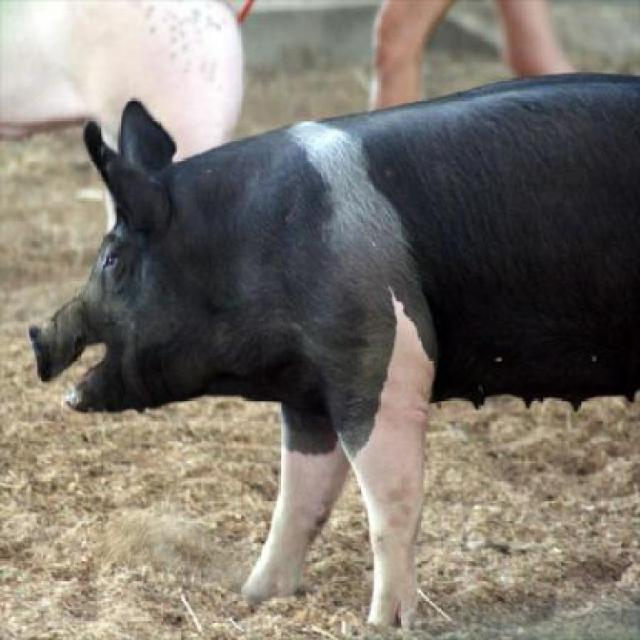pig: (26, 71, 640, 628)
